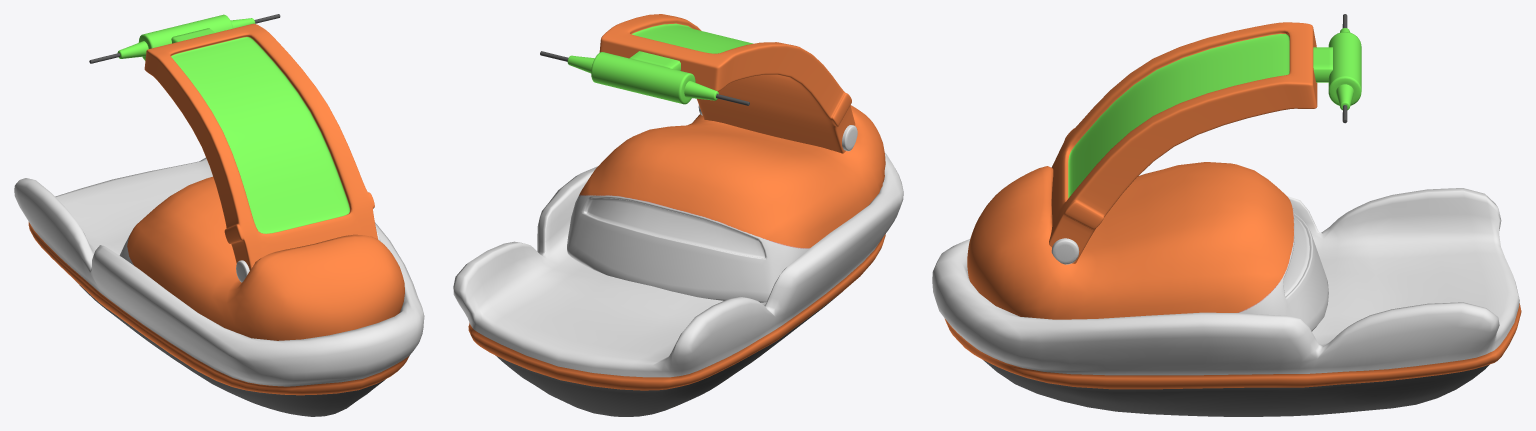
Rendered from jetski.fbx.
3 renders of one model, left to right at view 1: azimuth 30°, elevation 25°; view 2: azimuth 150°, elevation 25°; view 3: azimuth 270°, elevation 25°, orthographic. The views are drawn at different scales.
Visible parts, largest first — view 1: car_fixed24:models_f19:models_f18:models_f17:models_f16:mode; view 2: car_fixed24:models_f19:models_f18:models_f17:models_f16:mode; view 3: car_fixed24:models_f19:models_f18:models_f17:models_f16:mode.
Boxes of the visible parts, x1,y1,x2,y2 form: car_fixed24:models_f19:models_f18:models_f17:models_f16:mode: [14, 14, 424, 416]; car_fixed24:models_f19:models_f18:models_f17:models_f16:mode: [453, 14, 903, 416]; car_fixed24:models_f19:models_f18:models_f17:models_f16:mode: [932, 14, 1521, 416].
Bounding box in the file's own units: 5.39 × 6.52 × 9.77.
